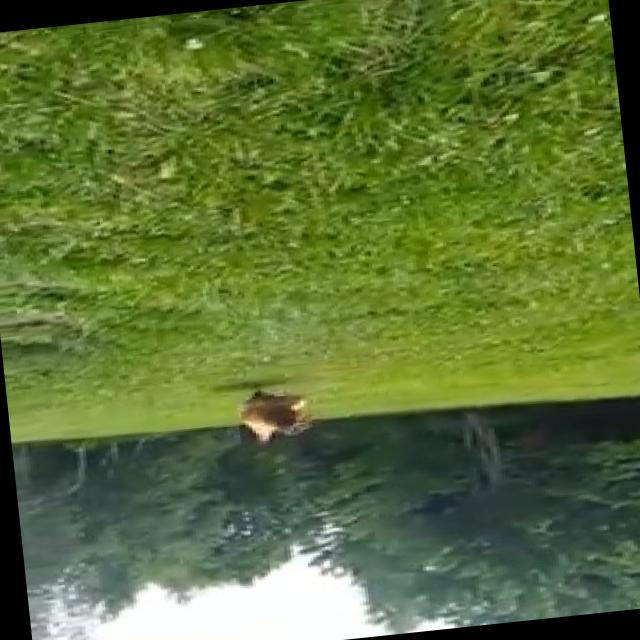running: (206, 372, 330, 466)
